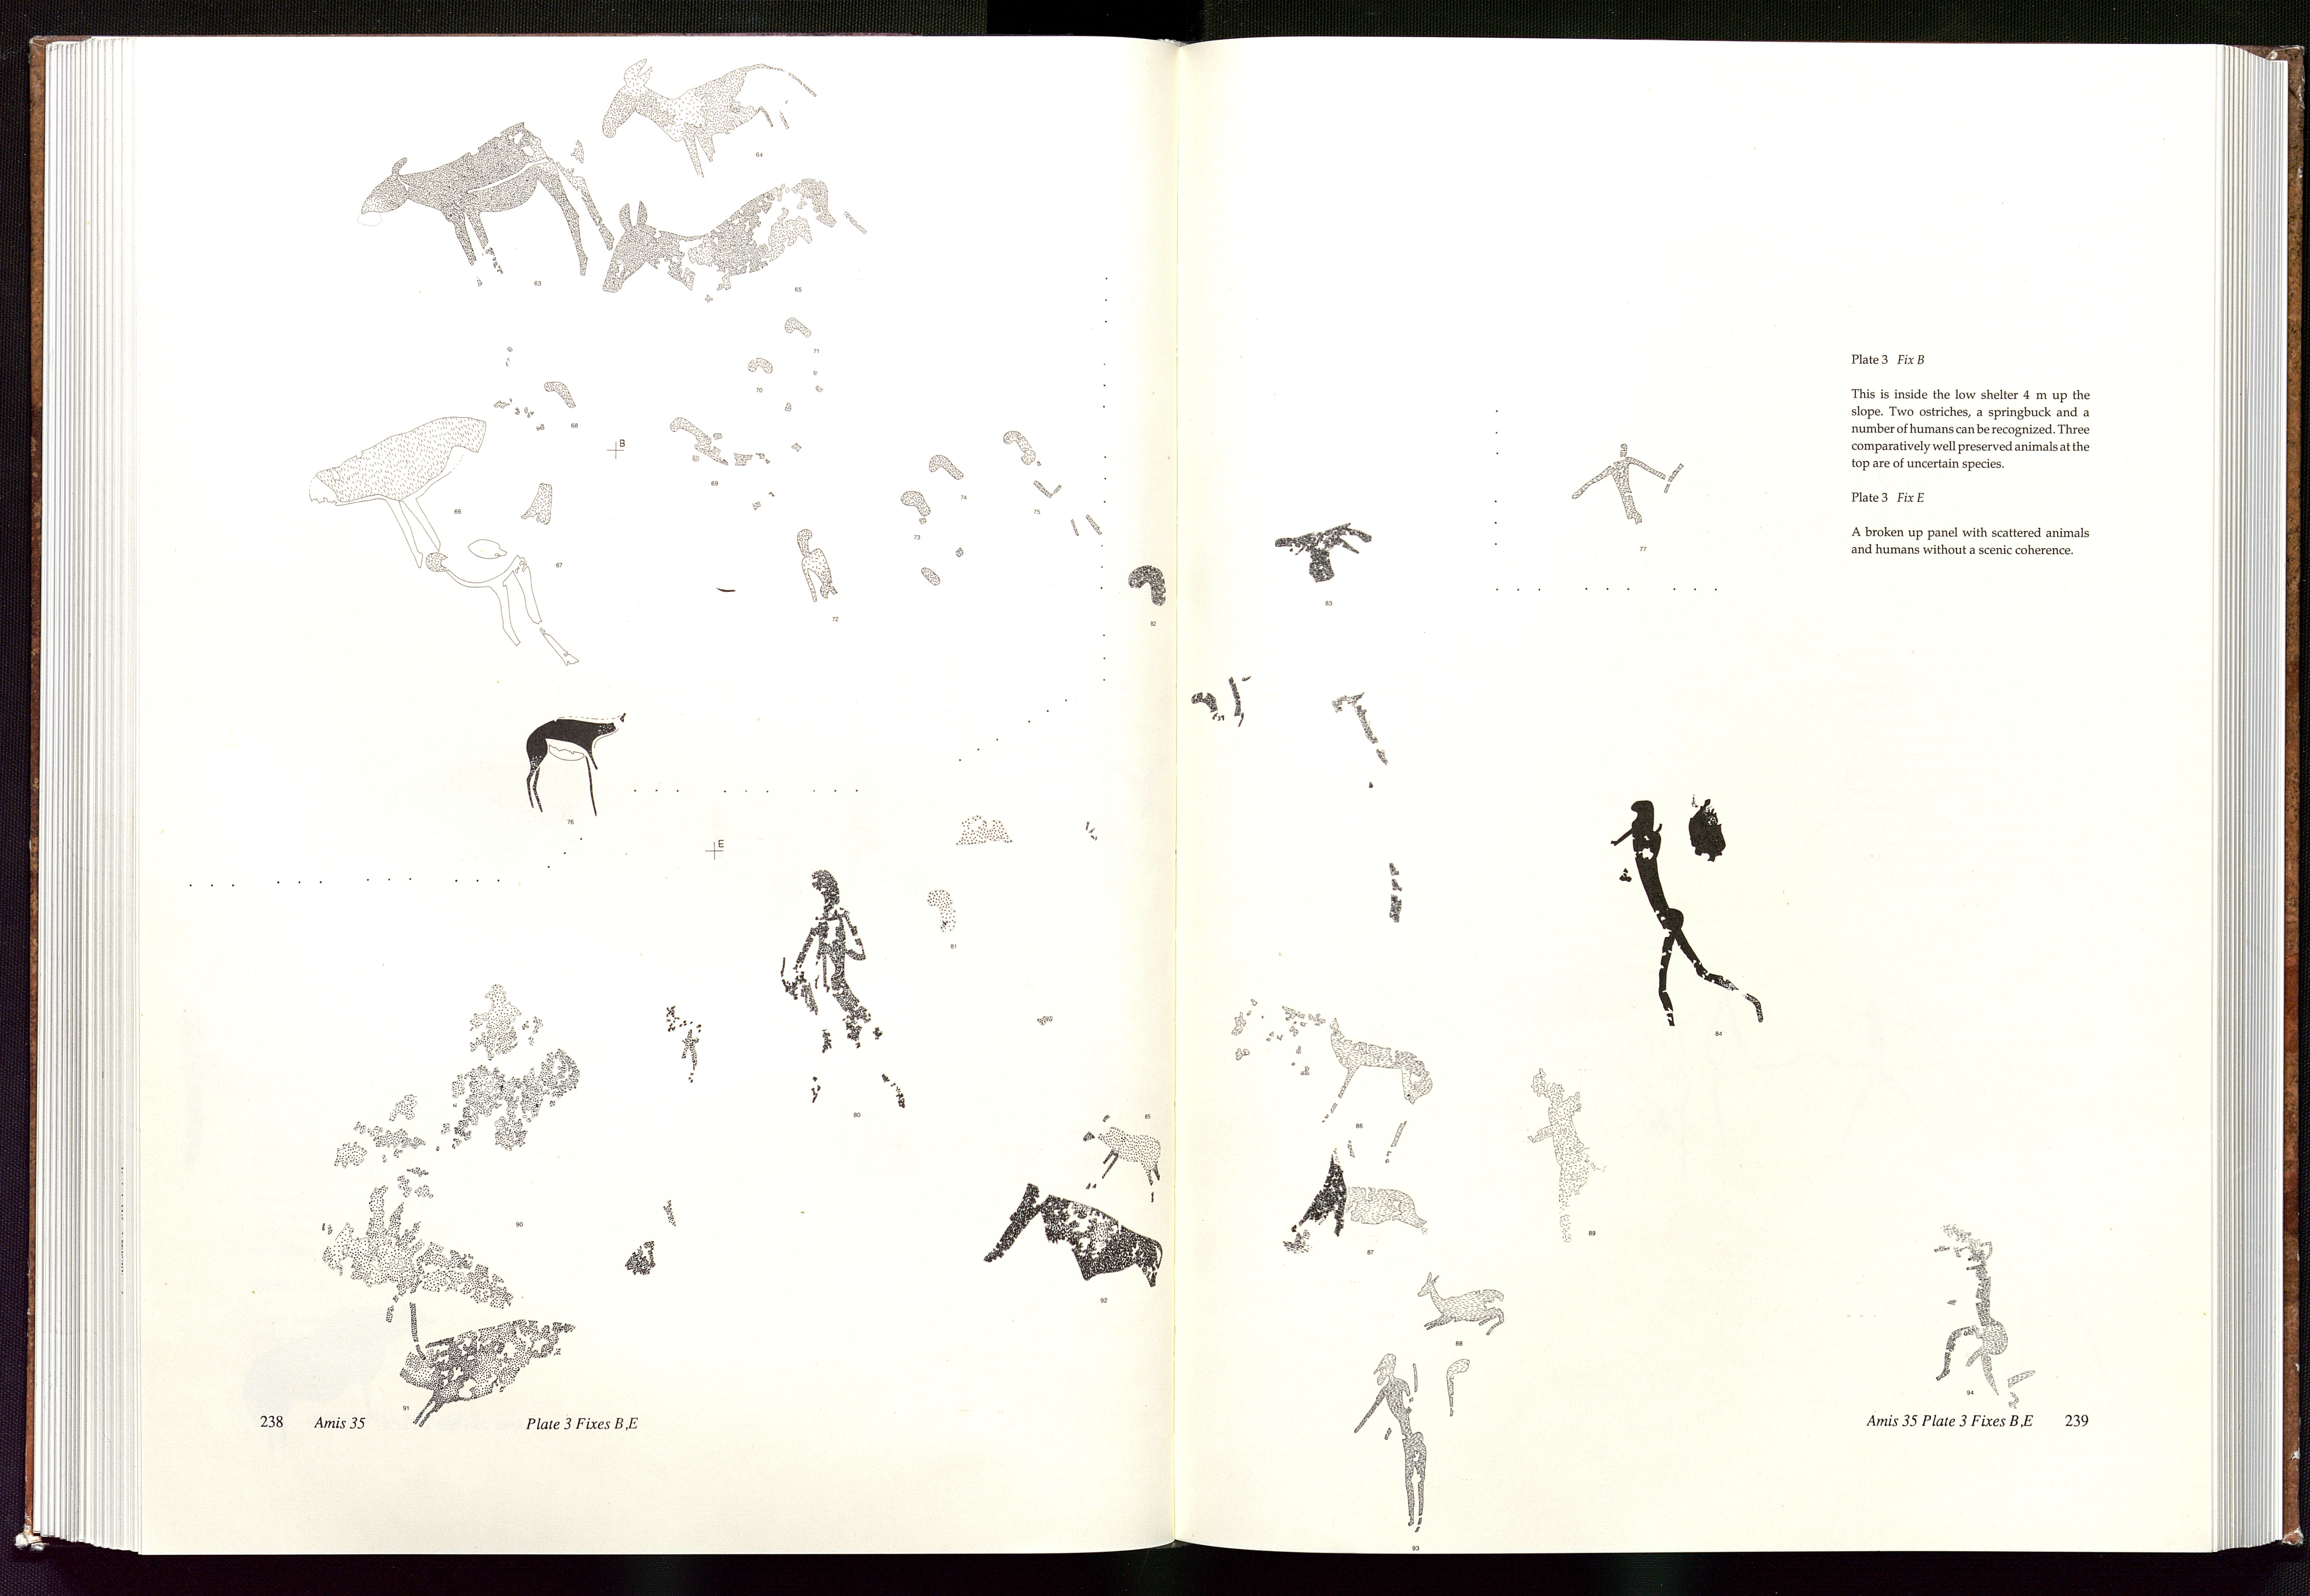animal: (350, 114, 623, 286), (603, 180, 883, 311), (599, 55, 822, 168), (522, 706, 630, 809)
human: (1595, 782, 1775, 1037), (798, 863, 932, 1138), (1925, 1217, 2057, 1423), (1350, 1349, 1463, 1558), (1571, 438, 1701, 539)
